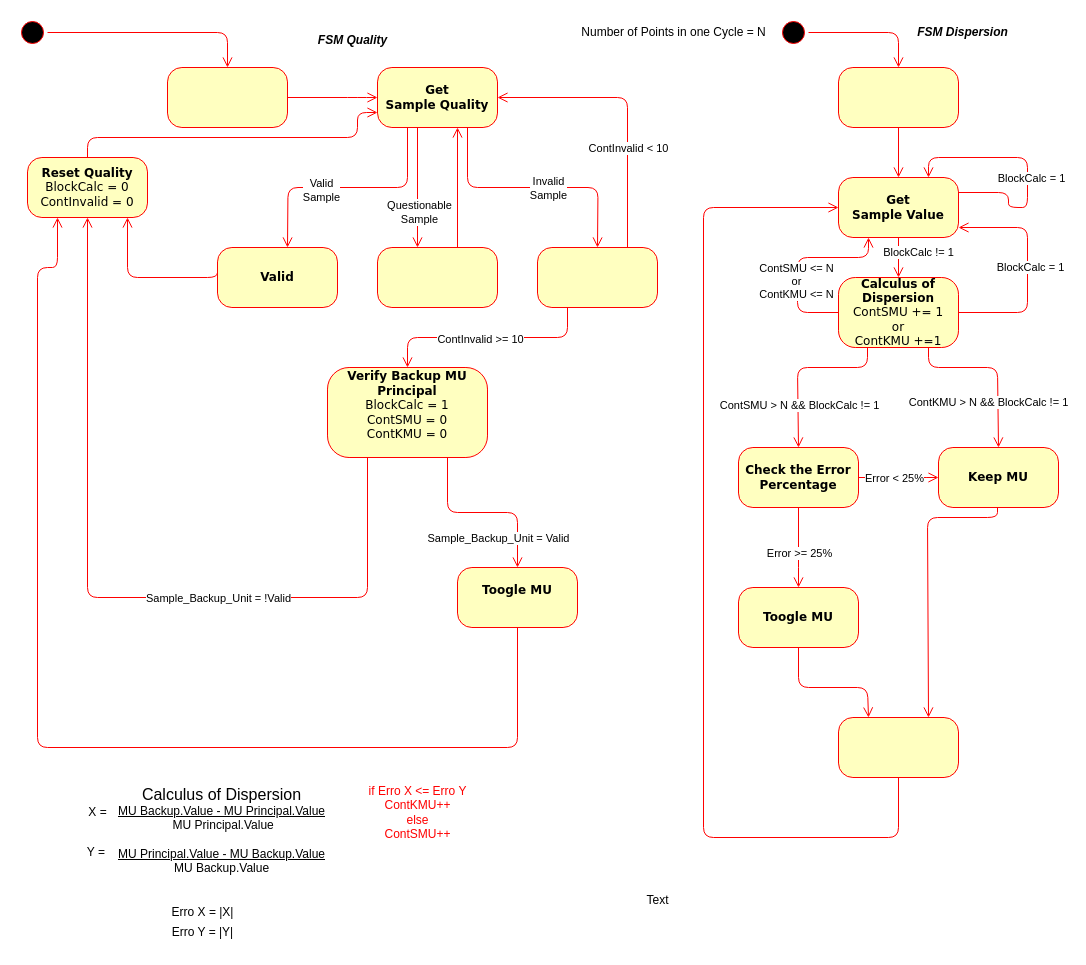
The diagram is 1086 pixels wide and 965 high, and some of its shapes have lost their labels. Here are the shapes that lost their labels. From the top down, the box of each, then its label:
(166, 66, 288, 128): Initial Quality BlockCalc = 0 ContInvalid = 0
(838, 66, 958, 128): Initial Value ContSMU = 0 ContKMU = 0
(376, 246, 498, 308): Questionable
(536, 246, 658, 308): Invalid ContInvalid += 1
(838, 716, 958, 778): Reset Dispersion ContSMU = 0 ContKMU = 0
